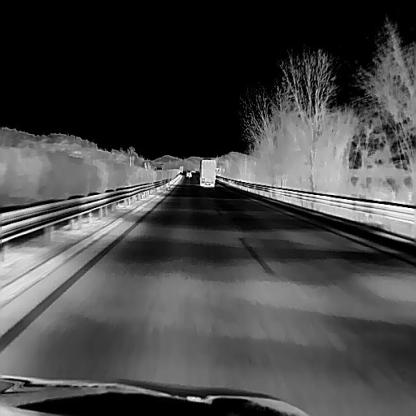car: (185, 168, 191, 176)
truck: (198, 157, 215, 186)
